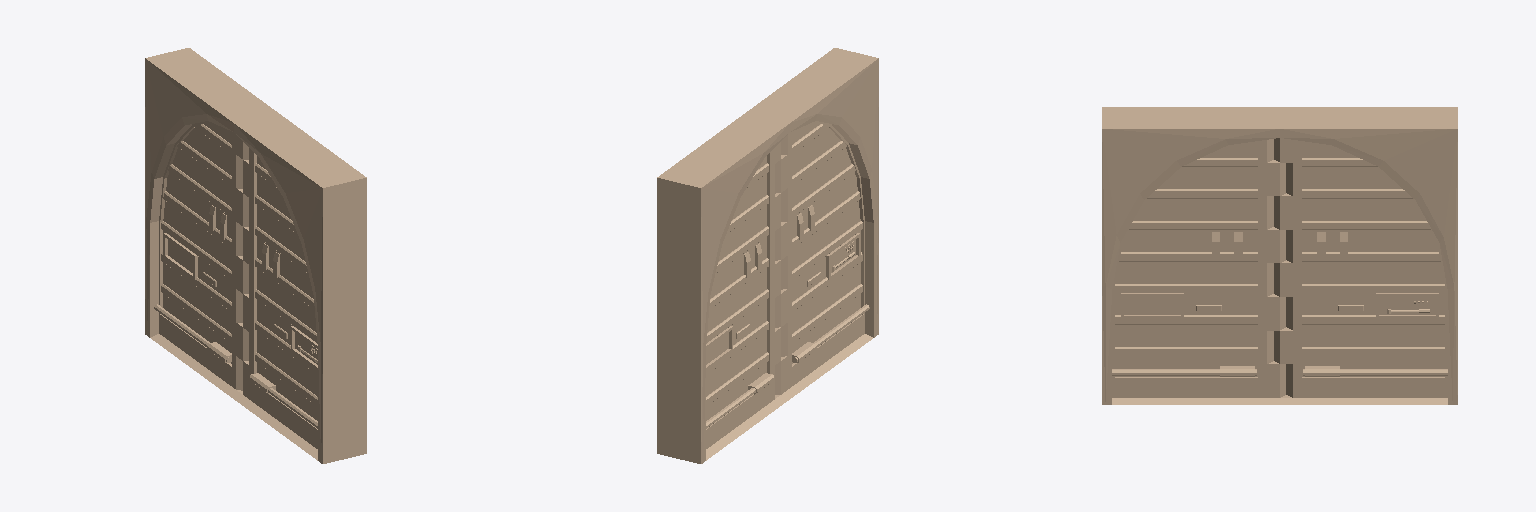
The model's file is large_vehicle_door_old.obj.
The picture shows the model from 3 angles: view 1: azimuth 30°, elevation 25°; view 2: azimuth 150°, elevation 25°; view 3: azimuth 270°, elevation 25°; orthographic projection.
Visible parts, largest first — view 1: frame, doorRight, doorLeft; view 2: frame, doorLeft, doorRight; view 3: doorLeft, doorRight, frame.
Part boxes in pixels (left/top/right/bottom): frame: left=145, top=48, right=366, bottom=463; doorRight: left=154, top=121, right=248, bottom=390; doorLeft: left=243, top=148, right=317, bottom=448; frame: left=657, top=48, right=878, bottom=463; doorLeft: left=775, top=121, right=869, bottom=394; doorRight: left=706, top=142, right=780, bottom=448; doorLeft: left=1112, top=139, right=1285, bottom=397; doorRight: left=1274, top=138, right=1447, bottom=397; frame: left=1102, top=107, right=1457, bottom=404.
Bounding box in the file's own units: 1.02 × 6 × 7.